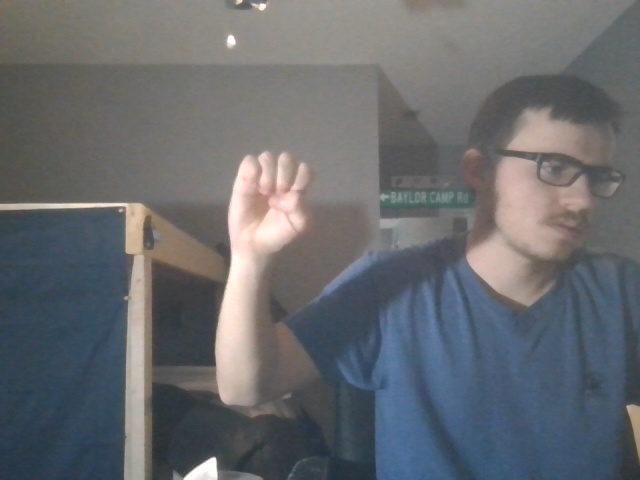E: (218, 145, 338, 256)
